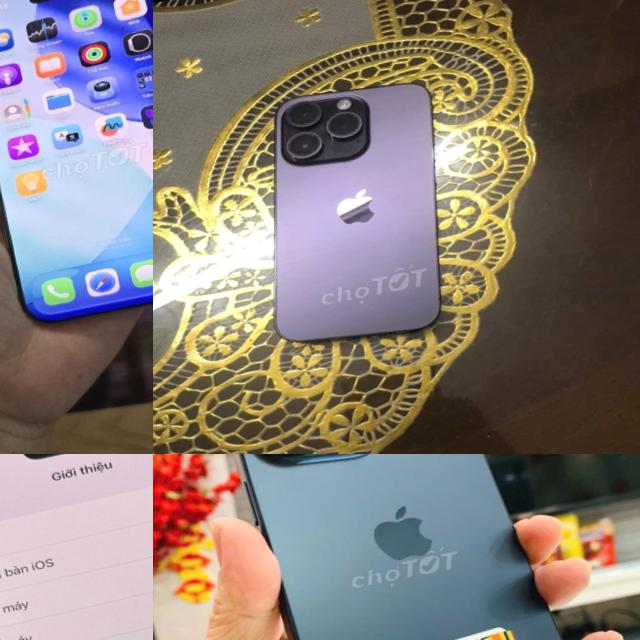gen_14: (221, 58, 484, 370)
gen_15: (205, 454, 601, 640)
gen_16: (0, 0, 153, 350), (0, 454, 153, 640)
